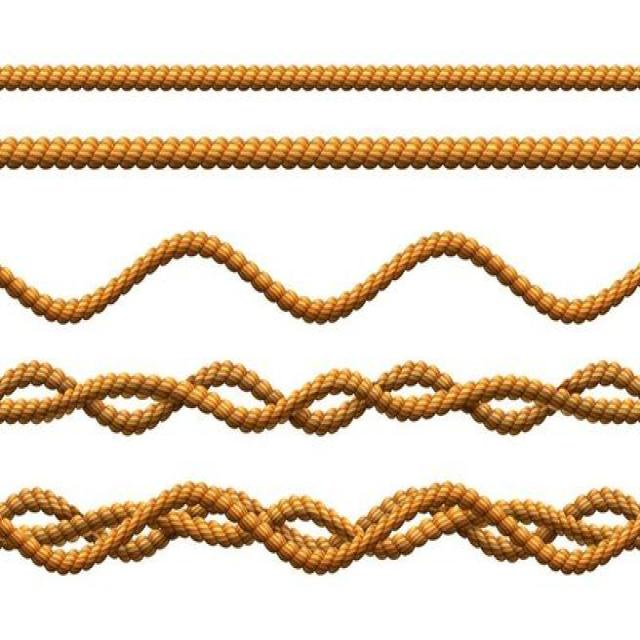Rope: (0, 326, 640, 454), (0, 223, 640, 339)
